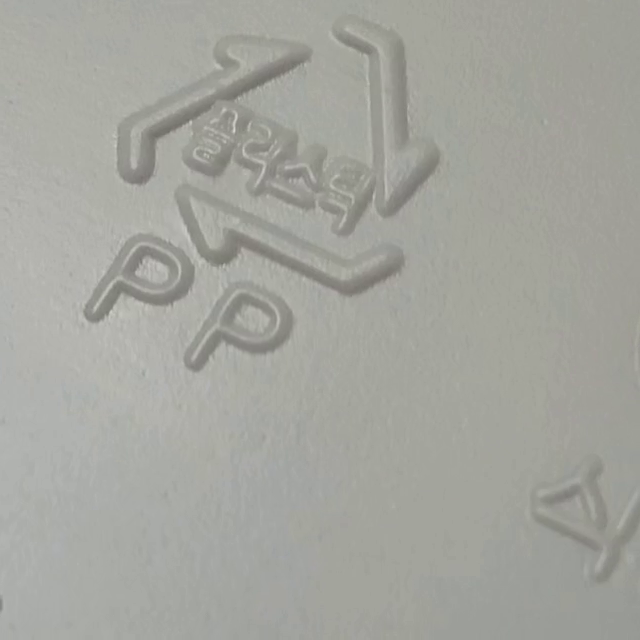Plastic: (117, 16, 439, 295)
